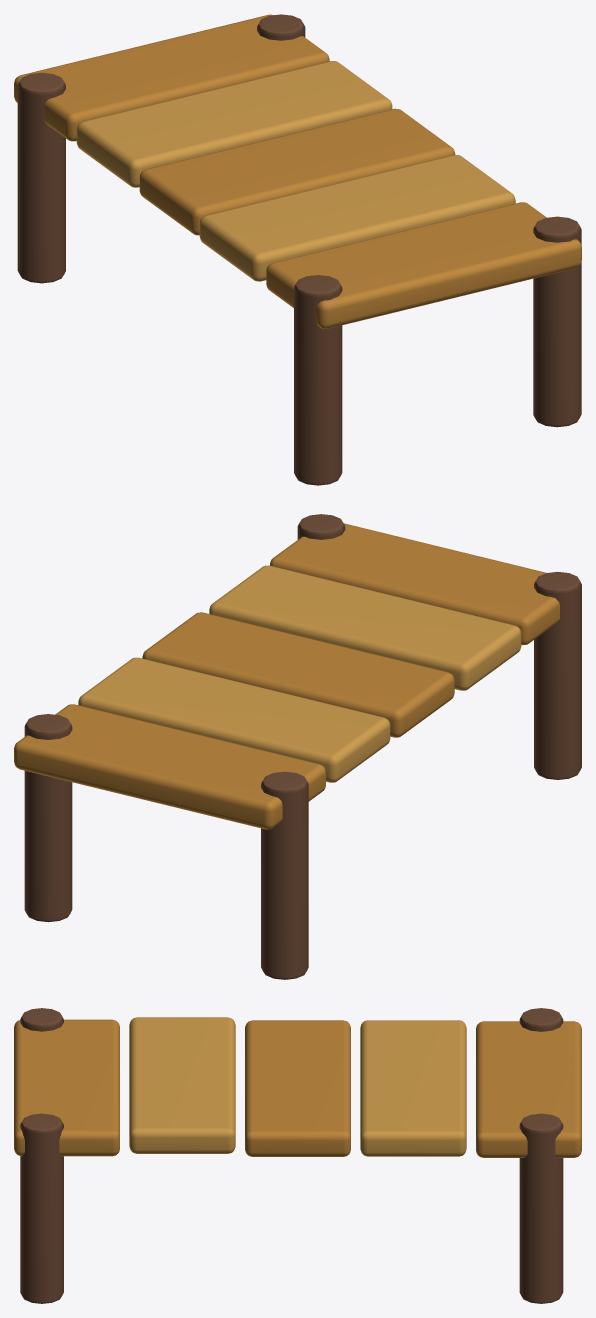
File: prop_dock.glb
3 views of the same model, one above another, from view 1: azimuth 30°, elevation 25°; view 2: azimuth 150°, elevation 25°; view 3: azimuth 270°, elevation 25° (orthographic). The views are drawn at different scales.
Parts seen in each view (by area): view 1: dock_plank0, dock_plank1, dock_plank3, dock_plank2, dock_plank4, dock_pile2, dock_pile0, dock_pile1, dock_pile3; view 2: dock_plank4, dock_plank1, dock_plank3, dock_plank2, dock_plank0, dock_pile2, dock_pile0, dock_pile3, dock_pile1; view 3: dock_plank1, dock_plank3, dock_plank2, dock_plank4, dock_plank0, dock_pile1, dock_pile3, dock_pile2, dock_pile0.
Part boxes in pixels (x1,y1,x2,y2): dock_plank0: (266, 202, 581, 328); dock_plank1: (199, 155, 515, 281); dock_plank3: (76, 61, 392, 187); dock_plank2: (139, 108, 455, 235); dock_plank4: (14, 14, 329, 141); dock_pile2: (17, 72, 65, 283); dock_pile0: (294, 275, 342, 485); dock_pile1: (533, 216, 581, 427); dock_pile3: (257, 14, 305, 40); dock_plank4: (14, 704, 325, 829); dock_plank1: (209, 565, 521, 690); dock_plank3: (78, 657, 390, 782); dock_plank2: (142, 612, 454, 737); dock_plank0: (270, 523, 559, 645); dock_pile2: (261, 771, 308, 979); dock_pile0: (534, 572, 581, 779); dock_pile3: (24, 714, 72, 922); dock_pile1: (297, 514, 345, 539); dock_plank1: (129, 1017, 235, 1153); dock_plank3: (360, 1020, 466, 1156); dock_plank2: (245, 1020, 350, 1156); dock_plank4: (476, 1021, 581, 1157); dock_plank0: (14, 1019, 119, 1156); dock_pile1: (20, 1113, 63, 1303); dock_pile3: (519, 1113, 563, 1303); dock_pile2: (519, 1008, 563, 1031); dock_pile0: (20, 1008, 63, 1031).
Size of the model in its own units: 0.94 by 0.62 by 1.82.
